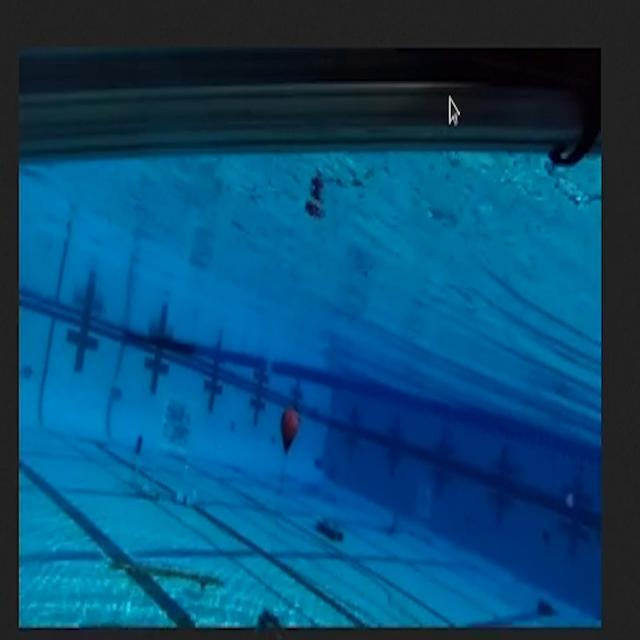Buoy: (276, 399, 304, 466)
